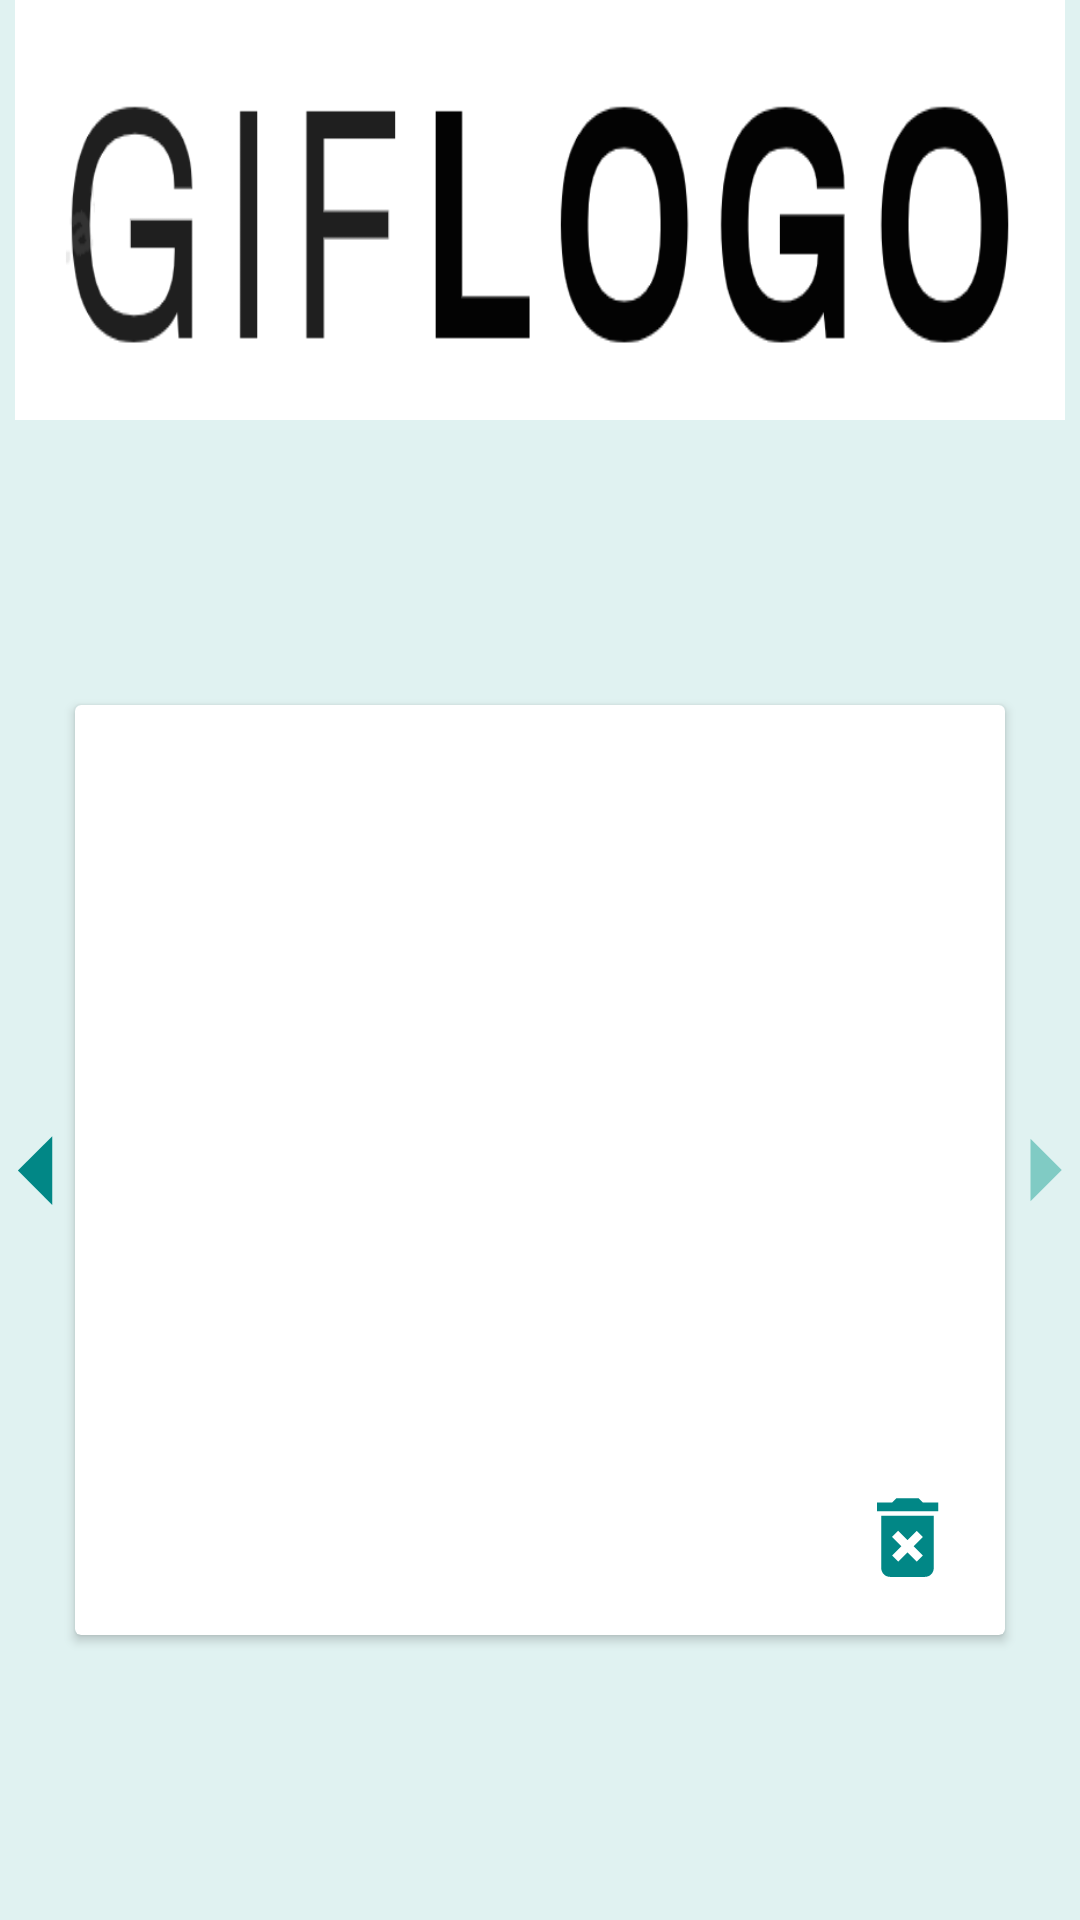

Icons on this 1080w x 1920h Android screen, each with the point to tap as point (x, y):
delete: point (908, 1537)
